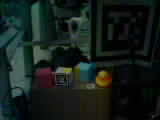duck: (87, 62, 119, 96)
